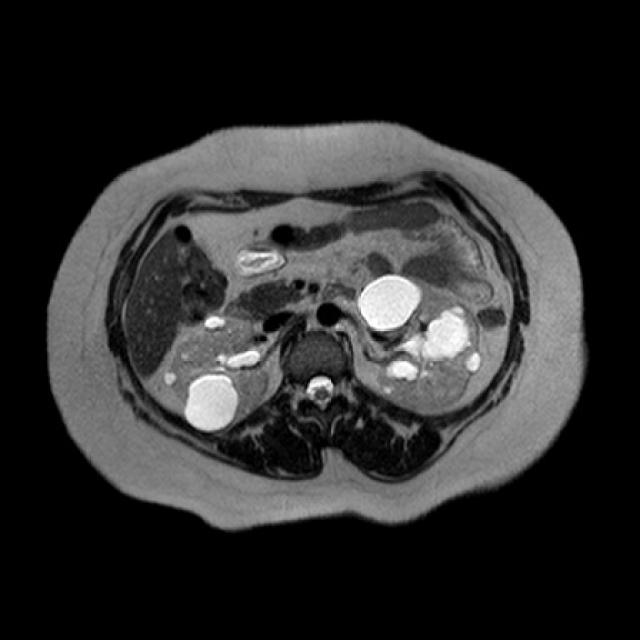sag: (162, 311, 270, 430)
sol: (357, 273, 484, 412)
